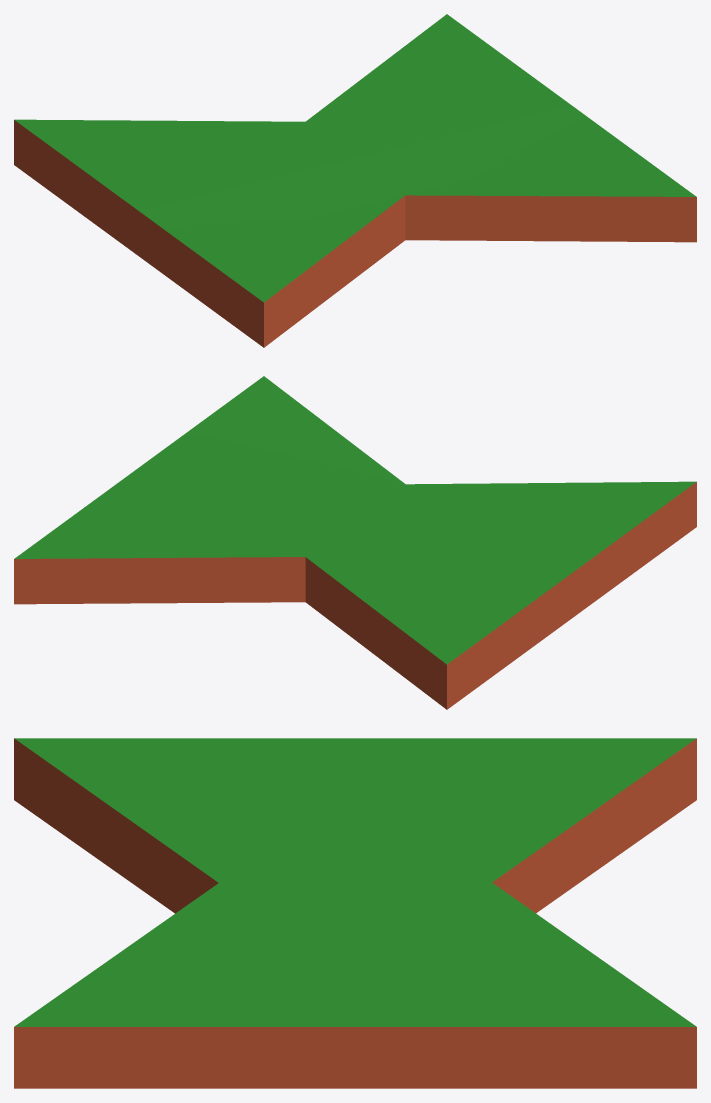
Rendered from floorhourglass.fbx.
3 renders of one model, top to bottom at view 1: azimuth 30°, elevation 25°; view 2: azimuth 150°, elevation 25°; view 3: azimuth 270°, elevation 25°, orthographic. The views are drawn at different scales.
Parts seen in each view (by area): view 1: FloorHourglass; view 2: FloorHourglass; view 3: FloorHourglass.
Boxes of the visible parts, x1=… form: FloorHourglass: x1=14, y1=14, x2=696, y2=347; FloorHourglass: x1=14, y1=376, x2=696, y2=709; FloorHourglass: x1=14, y1=738, x2=696, y2=1088.
Size of what is drawn, in the model's own units: 100 by 10 by 100.
